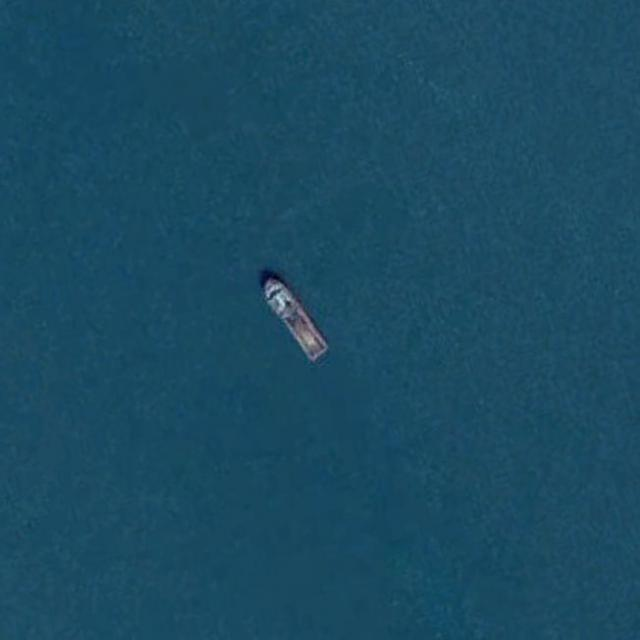ship: (261, 273, 329, 362)
